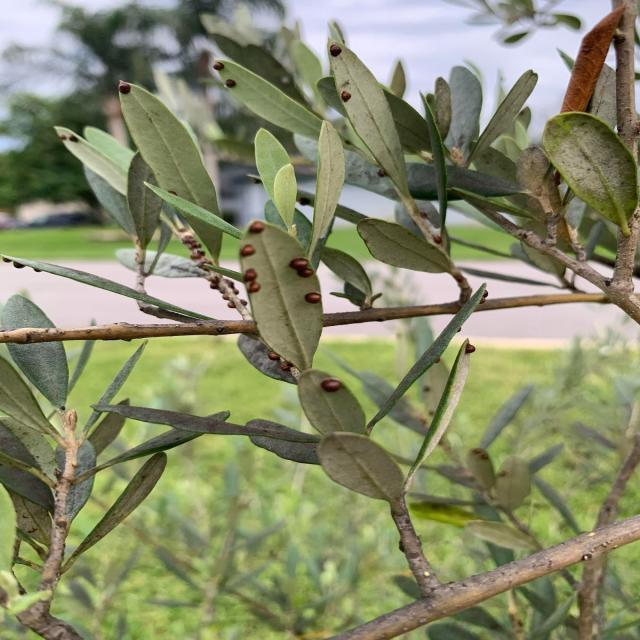BlackScale: (208, 274, 248, 310), (182, 235, 216, 272), (0, 255, 43, 272), (242, 268, 262, 297), (289, 257, 309, 278), (320, 377, 345, 392), (248, 220, 266, 234), (238, 244, 256, 258), (304, 292, 322, 304), (329, 44, 342, 57), (267, 349, 280, 362), (478, 290, 488, 306), (118, 84, 131, 95), (340, 90, 351, 102), (464, 342, 475, 354), (281, 363, 294, 372), (213, 62, 224, 72), (224, 79, 236, 88), (433, 235, 442, 247), (69, 136, 81, 142), (167, 190, 179, 196)
